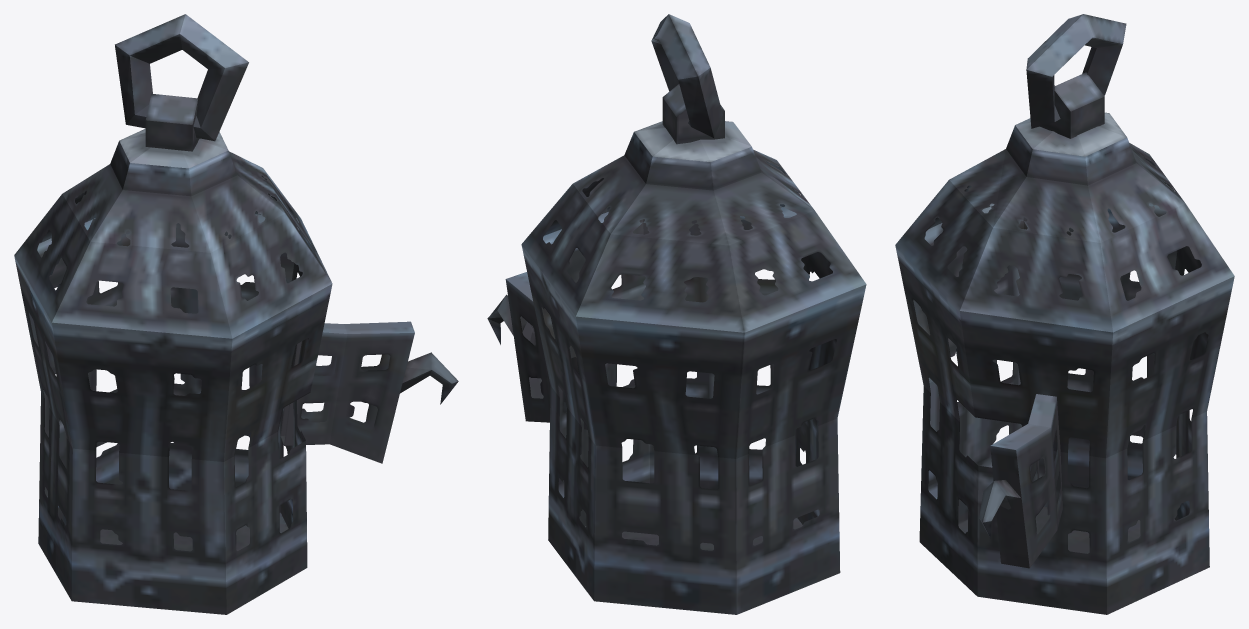
File: mine_birdcage01.fbx
The picture shows the model from 3 angles, left to right: view 1: azimuth 30°, elevation 25°; view 2: azimuth 150°, elevation 25°; view 3: azimuth 270°, elevation 25°; orthographic projection. The views are drawn at different scales.
Parts seen in each view (by area): view 1: obj0; view 2: obj0; view 3: obj0.
Part boxes in pixels (x1,y1,x2,y2): obj0: (14, 14, 458, 614); obj0: (487, 14, 866, 614); obj0: (895, 14, 1234, 614).
Size of the model in its own units: 1.13 by 1.49 by 0.8368.
